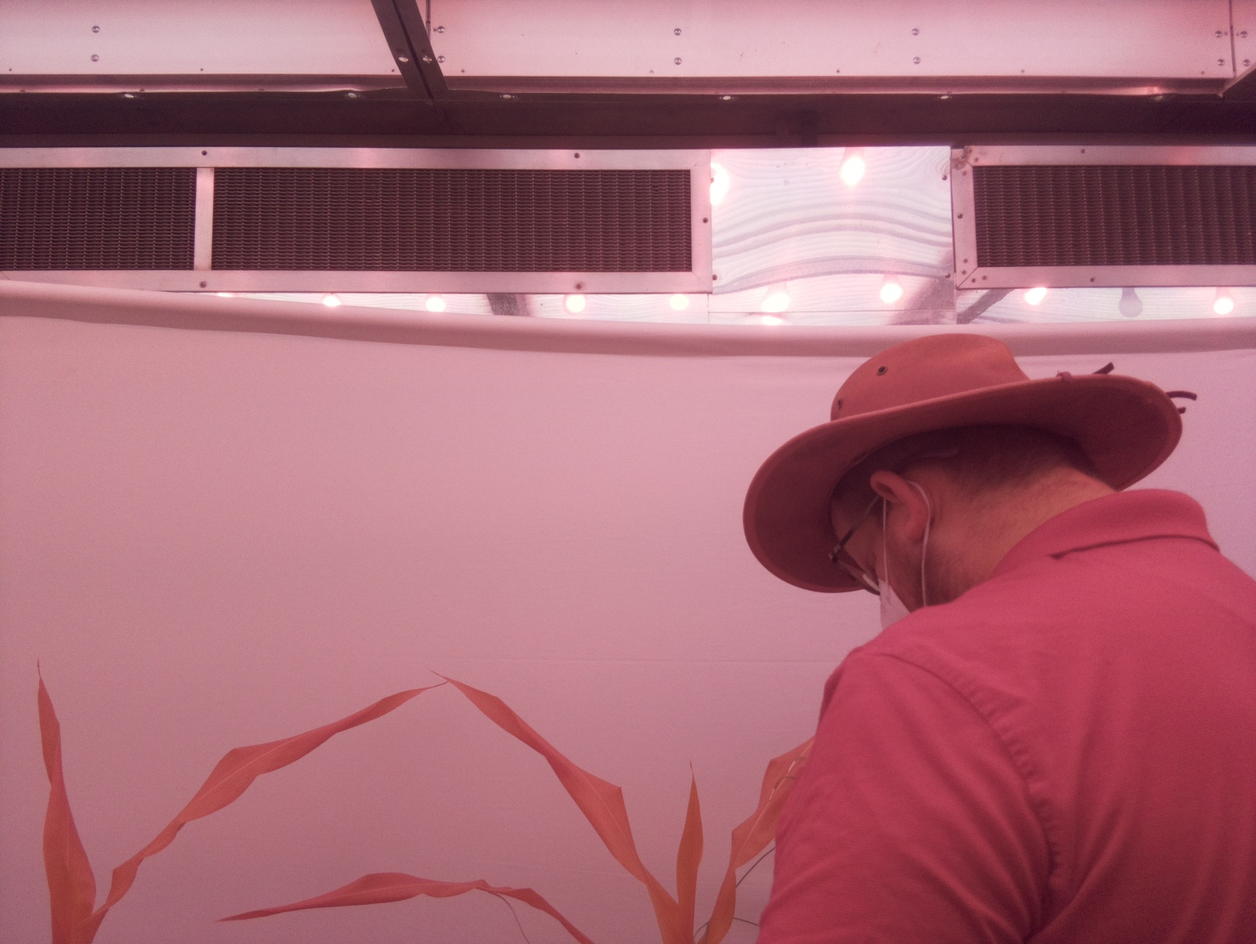maize: (214, 667, 816, 944), (34, 655, 445, 944)
